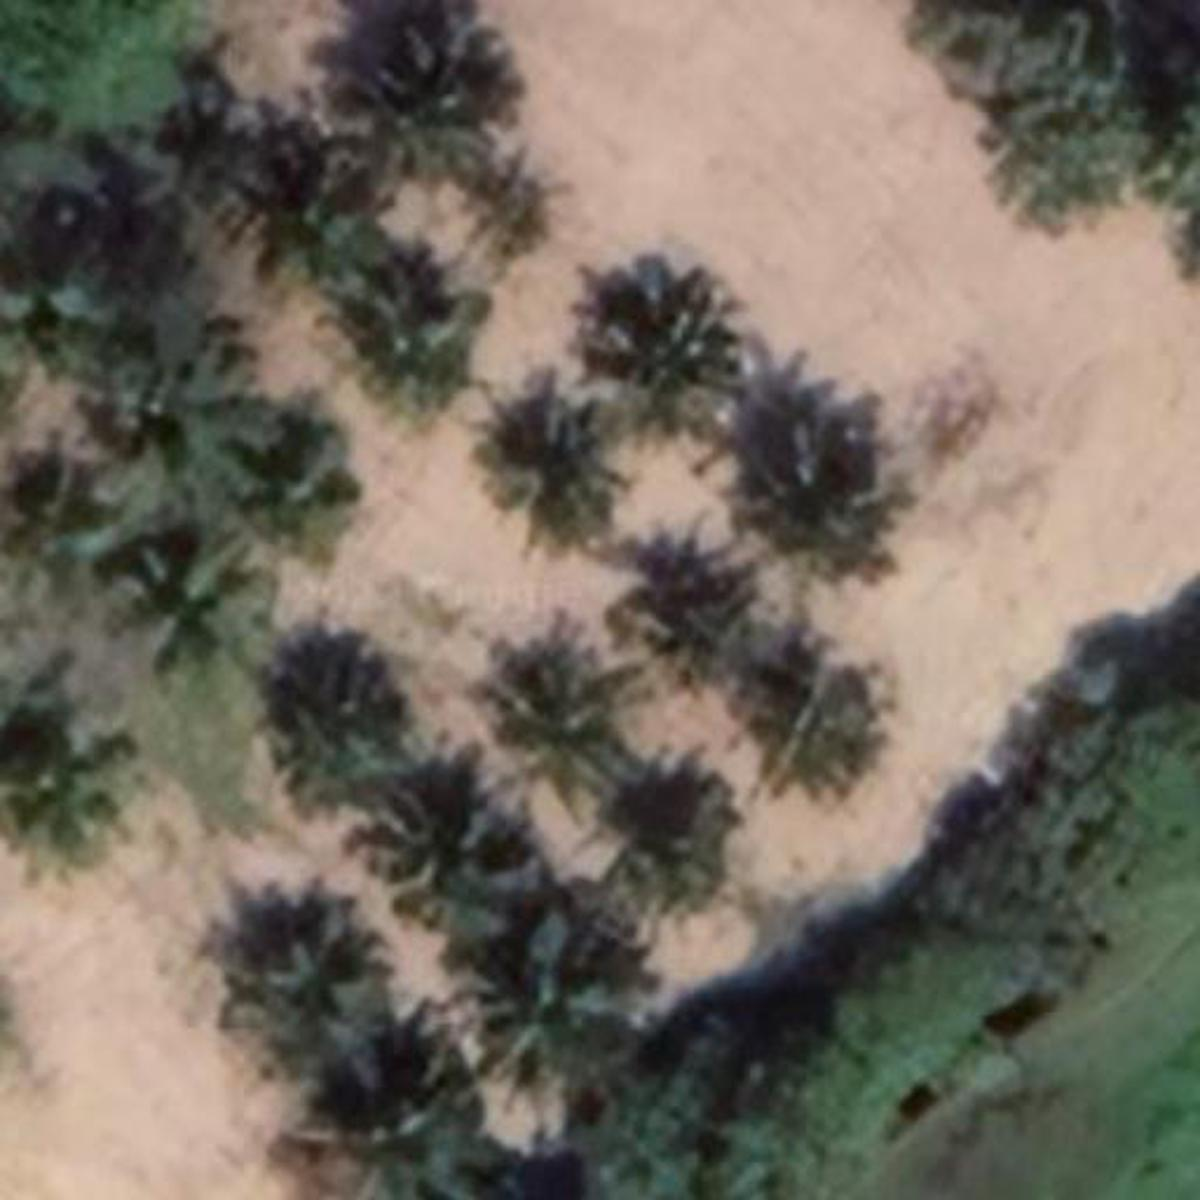coconut: (464, 900, 663, 1087), (454, 623, 651, 810), (100, 344, 288, 527), (192, 911, 398, 1078), (727, 393, 916, 569), (337, 766, 543, 927), (255, 637, 433, 813), (576, 257, 752, 435), (325, 243, 496, 426), (7, 700, 173, 878), (300, 1051, 503, 1195), (459, 379, 632, 546), (353, 21, 529, 185), (98, 525, 288, 675), (611, 522, 773, 696), (232, 135, 396, 292), (740, 632, 890, 799), (119, 84, 278, 238), (600, 757, 749, 911)
